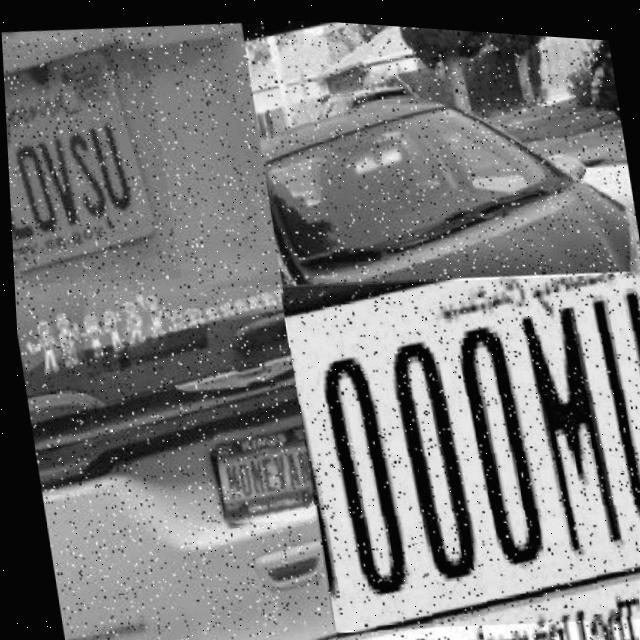LicensePlate: (275, 244, 640, 640), (1, 28, 179, 294), (211, 429, 308, 520)
